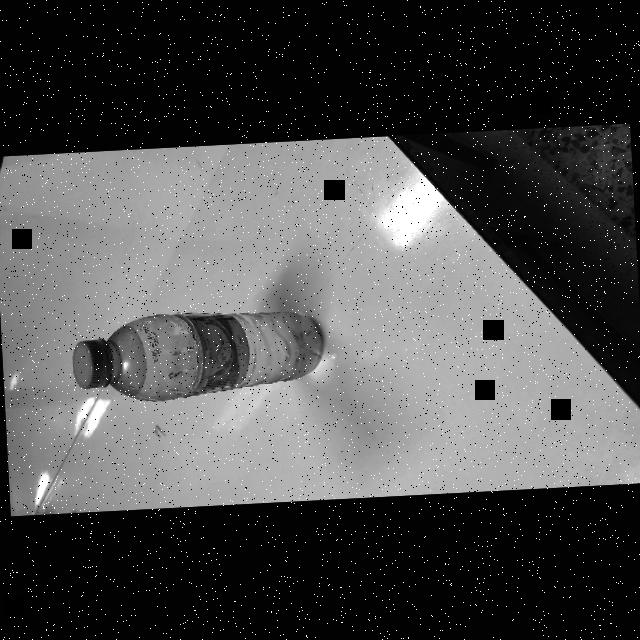plastic_bottle: (64, 302, 329, 408)
plastic_bottle_cap: (66, 336, 114, 392)
